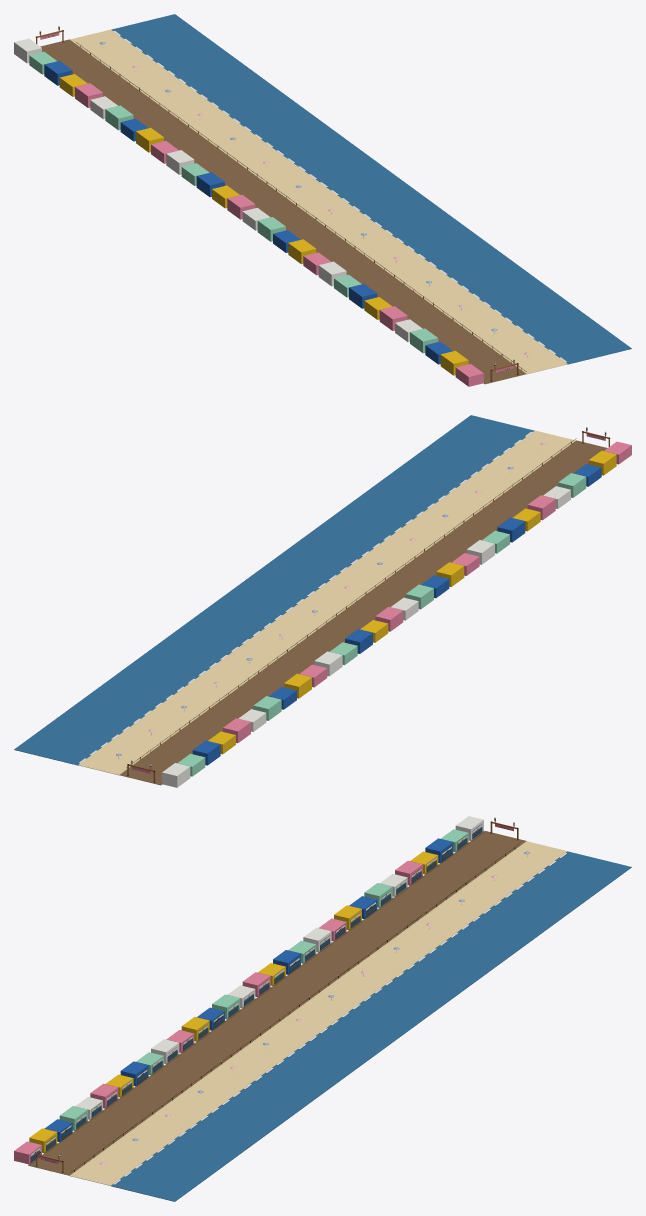
Rendered from paseo_rehoboth.glb.
3 views of the same model, one above another, from view 1: azimuth 30°, elevation 25°; view 2: azimuth 150°, elevation 25°; view 3: azimuth 330°, elevation 25° (orthographic).
Parts seen in each view (by area): view 1: paseo_rehoboth; view 2: paseo_rehoboth; view 3: paseo_rehoboth.
Part boxes in pixels (x1,y1,x2,y2): paseo_rehoboth: (14,14,631,386); paseo_rehoboth: (14,415,631,787); paseo_rehoboth: (14,816,631,1201).
Bounding box in the file's own units: 86 × 8.96 × 420.
1 material, 1 textured.
